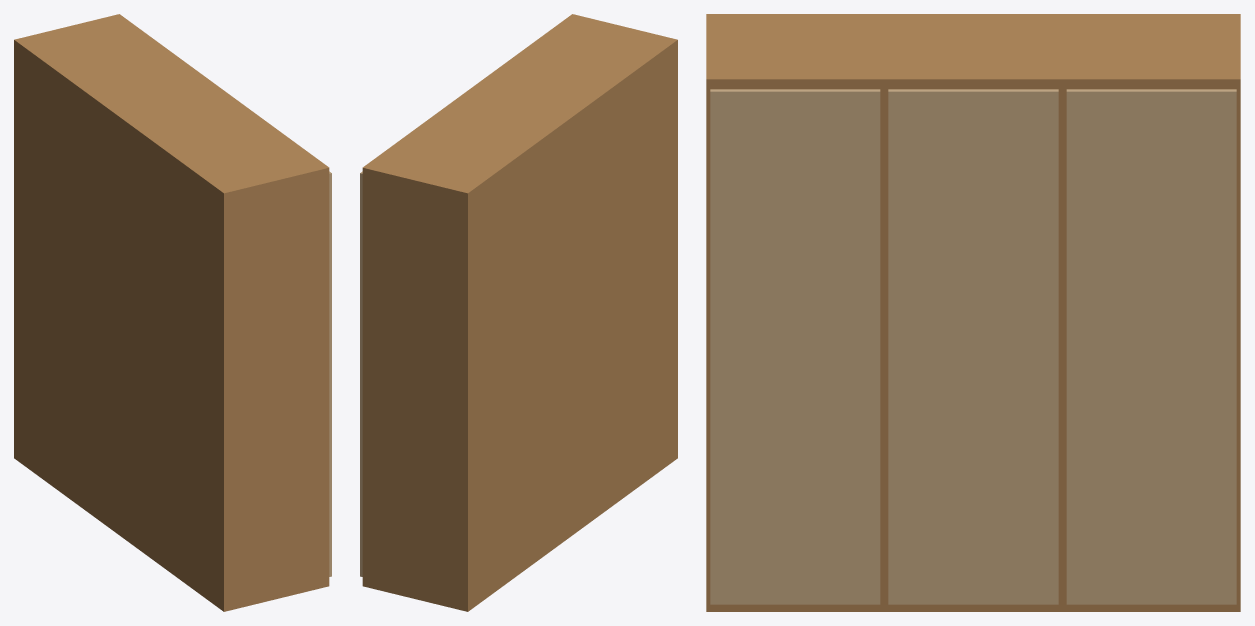
The picture shows the model from 3 angles, left to right: view 1: azimuth 30°, elevation 25°; view 2: azimuth 150°, elevation 25°; view 3: azimuth 270°, elevation 25°; orthographic projection. The views are drawn at different scales.
Visible parts, largest first — view 1: closet_dorm1; view 2: closet_dorm1; view 3: closet_dorm1.
Boxes of the visible parts, bbox=[...] form: closet_dorm1: bbox=[14, 14, 331, 611]; closet_dorm1: bbox=[360, 14, 677, 611]; closet_dorm1: bbox=[706, 14, 1240, 611].
Bounding box in the file's own units: 0.602 × 2 × 2.2.
